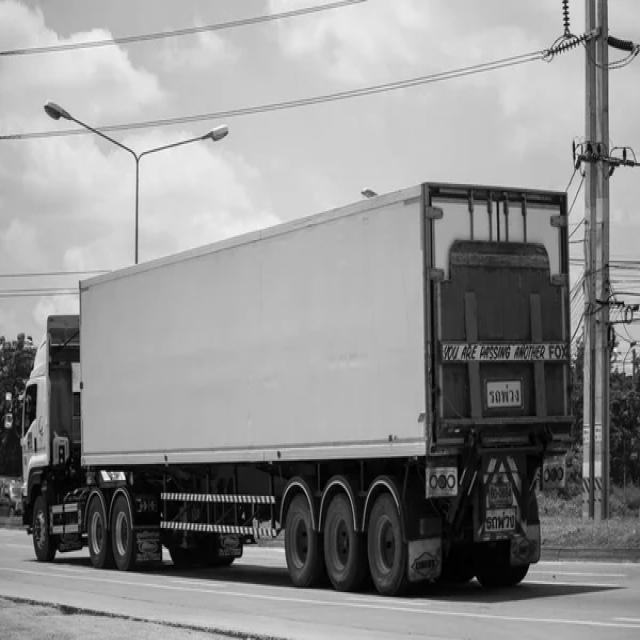Pole: (579, 0, 622, 519)
Truck: (20, 184, 574, 594)
